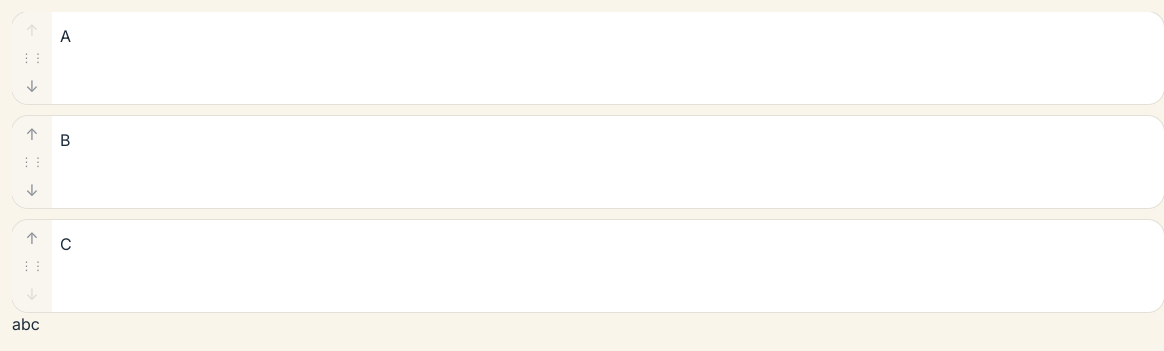
it: SortableList › reorders with accessible move up/down buttons
Step 1. Click the button named "Move Item c up" → (32, 238), box [14,220,50,256]
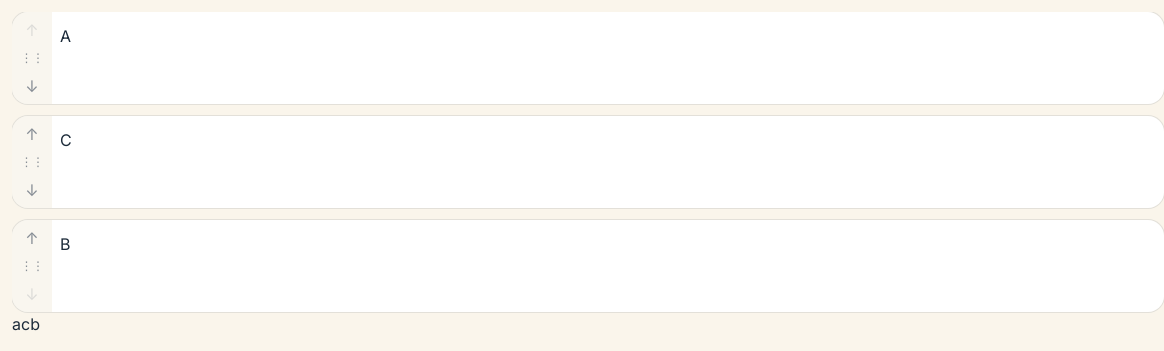
expect the text with test id "order" reads "acb": met, box [12,314,40,334]
Step 2. Click the button named "Move Item a down" → (32, 86), box [14,68,50,104]
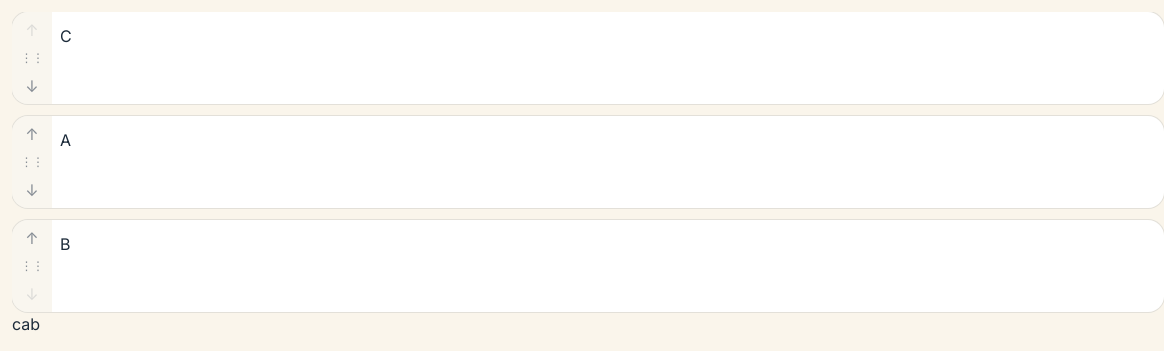
expect the text with test id "order" reads "cab": met, box [12,314,40,334]
